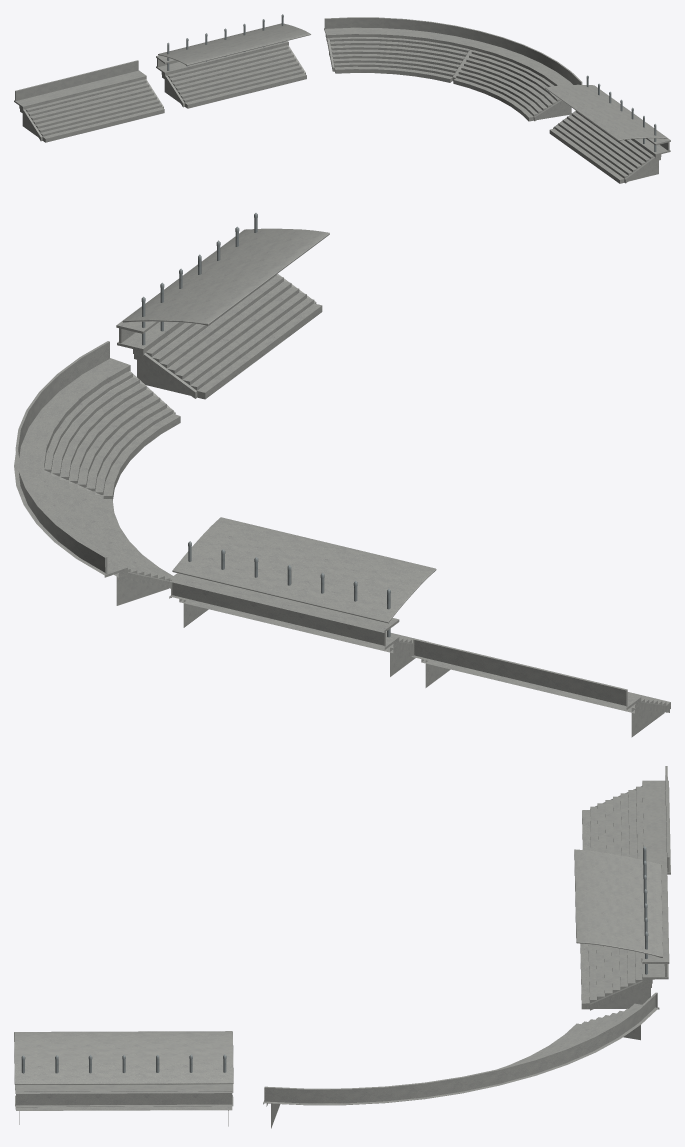
Rendered from New_York_track_Stand.dae.
The picture shows the model from 3 angles, top to bottom: view 1: azimuth 30°, elevation 25°; view 2: azimuth 150°, elevation 25°; view 3: azimuth 270°, elevation 25°; orthographic projection. The views are drawn at different scales.
Parts seen in each view (by area): view 1: New_York_track_Stand; view 2: New_York_track_Stand; view 3: New_York_track_Stand.
Boxes of the visible parts, x1,y1,x2,y2 form: New_York_track_Stand: [14, 14, 670, 183]; New_York_track_Stand: [14, 213, 670, 737]; New_York_track_Stand: [14, 766, 670, 1128].
Bounding box in the file's own units: 5.26 × 4.47 × 0.5709.
2 materials, 2 textured.
